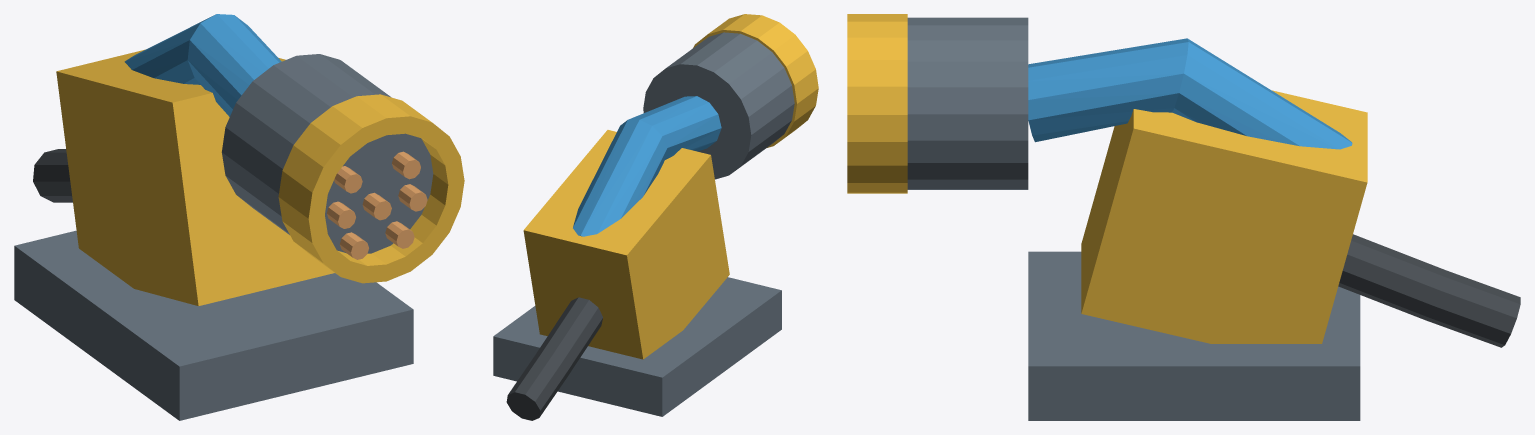
File: ENERGY-027.glb
The picture shows the model from 3 angles, left to right: view 1: azimuth 30°, elevation 25°; view 2: azimuth 150°, elevation 25°; view 3: azimuth 270°, elevation 25°; orthographic projection. The views are drawn at different scales.
Visible parts, largest first — view 1: ENERGY-027; view 2: ENERGY-027; view 3: ENERGY-027.
Boxes of the visible parts, x1,y1,x2,y2 form: ENERGY-027: (14,14,464,420); ENERGY-027: (493,14,818,420); ENERGY-027: (847,14,1520,420).
Bounding box in the file's own units: 0.36 × 0.5 × 0.8927.
